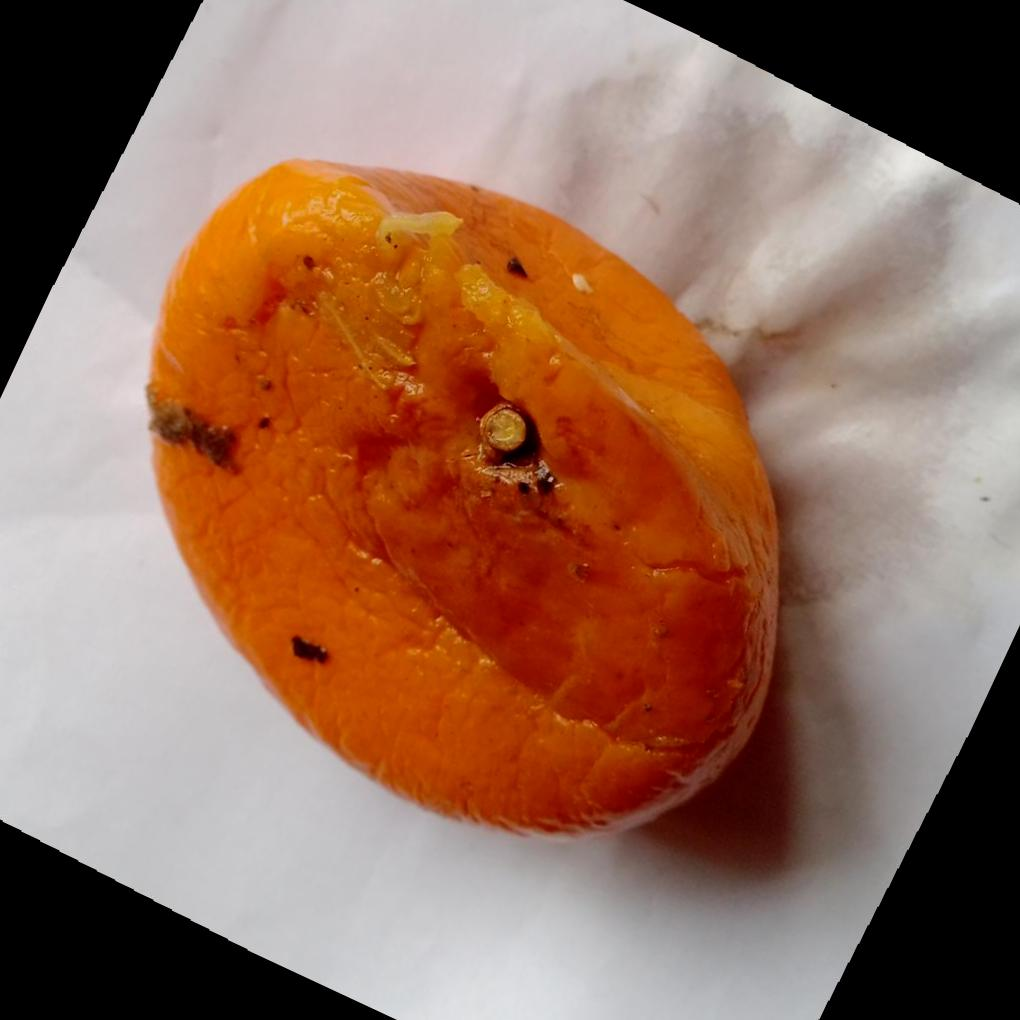FreshOrange: (142, 158, 781, 841)
